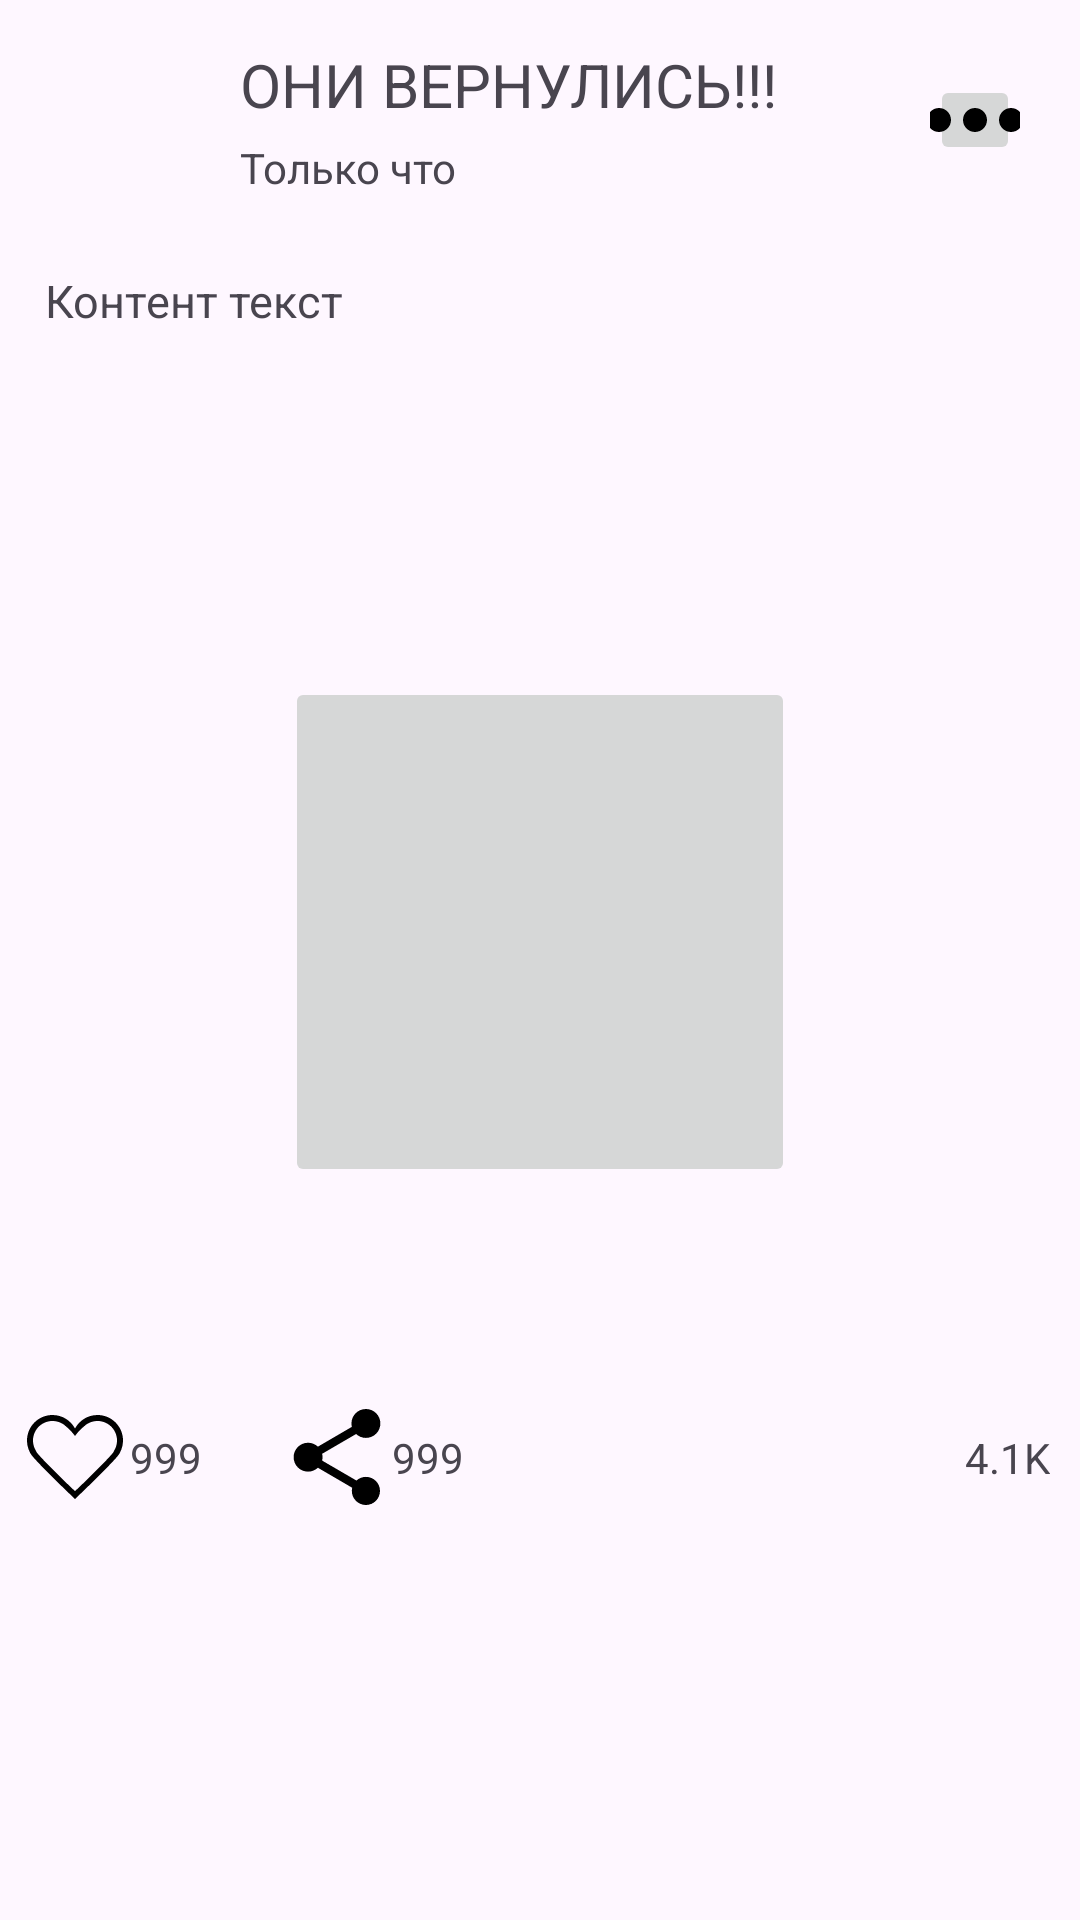

Icon click points for this 1080px×1920px phone screenshot, format (x=x, y=y):
likes: (x=88, y=1457)
repost: (x=352, y=1457)
tochki: (x=975, y=120)
